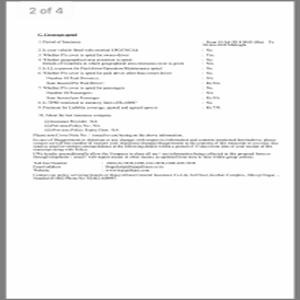text: (34, 31, 274, 130), (32, 132, 279, 180)
